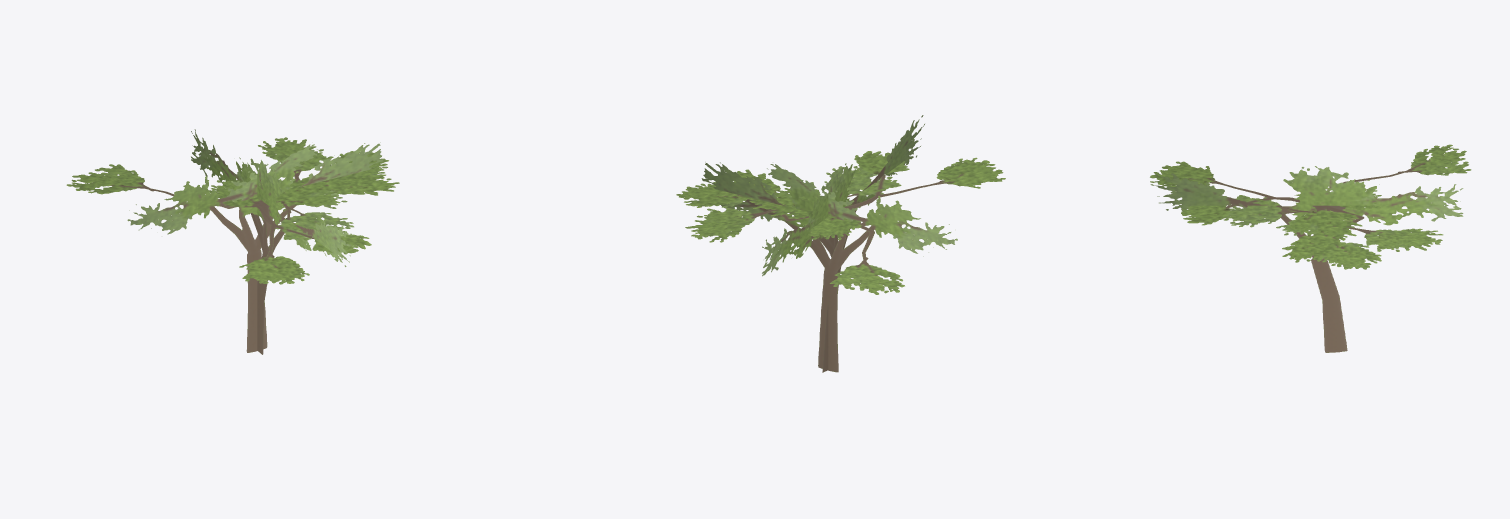
File: acacia_2_far.glb
The picture shows the model from 3 angles, left to right: view 1: azimuth 30°, elevation 25°; view 2: azimuth 150°, elevation 25°; view 3: azimuth 270°, elevation 25°; orthographic projection. The views are drawn at different scales.
Visible parts, largest first — view 1: acacia_2_far; view 2: acacia_2_far; view 3: acacia_2_far.
Part boxes in pixels (x1,y1,x2,y2): acacia_2_far: [66, 129, 399, 354]; acacia_2_far: [676, 115, 1005, 372]; acacia_2_far: [1150, 144, 1471, 352].
Bounding box in the file's own units: 10.04 × 10.04 × 10.04.
1 material, 1 textured.
